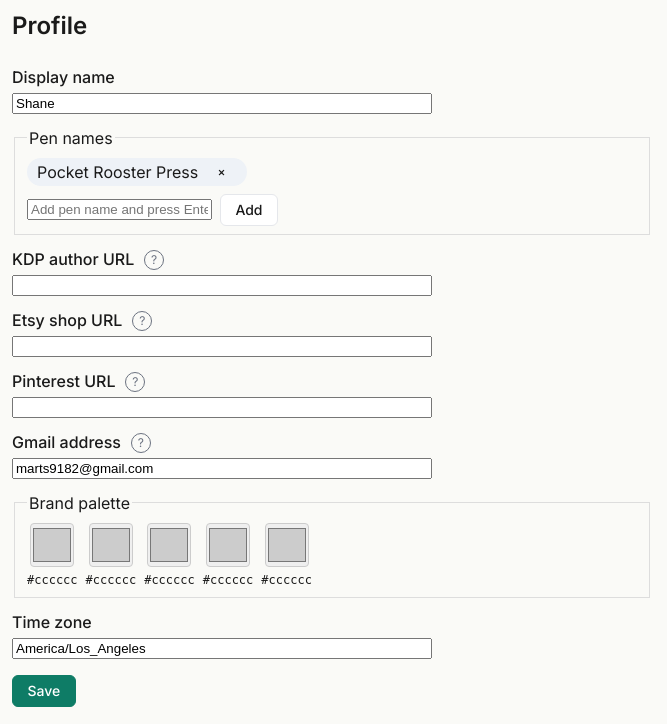
Scenario: Profile › saves edits via PUT and shows Saved confirmation
Replace the text in the field labelled "Display name" with "Shane M" at [222, 103], box [12, 93, 432, 114]
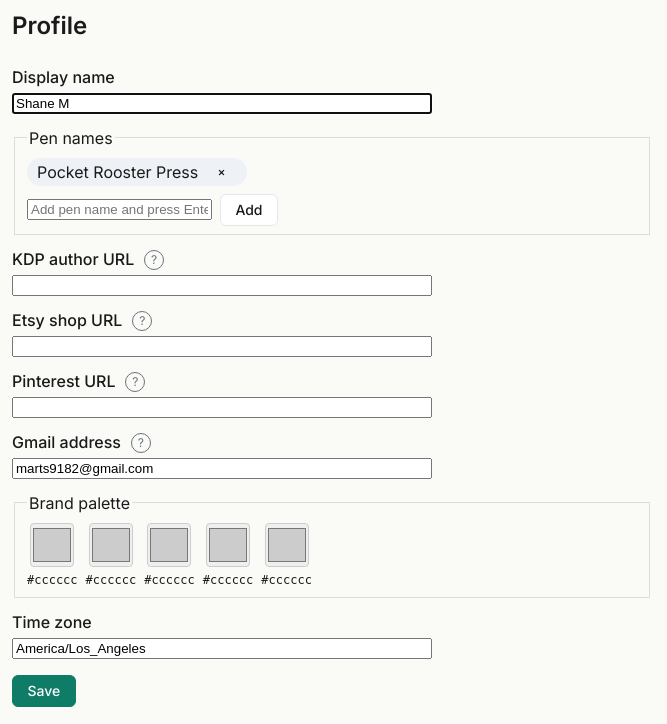
Click the button "Save" at [44, 691], box [12, 675, 76, 707]
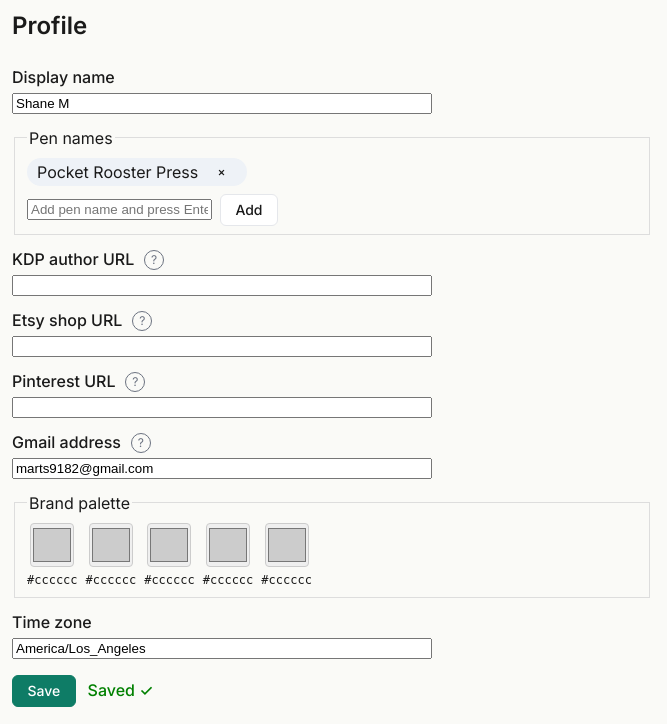
Expected: the text "Saved ✓" is shown, [88, 680, 153, 700]
